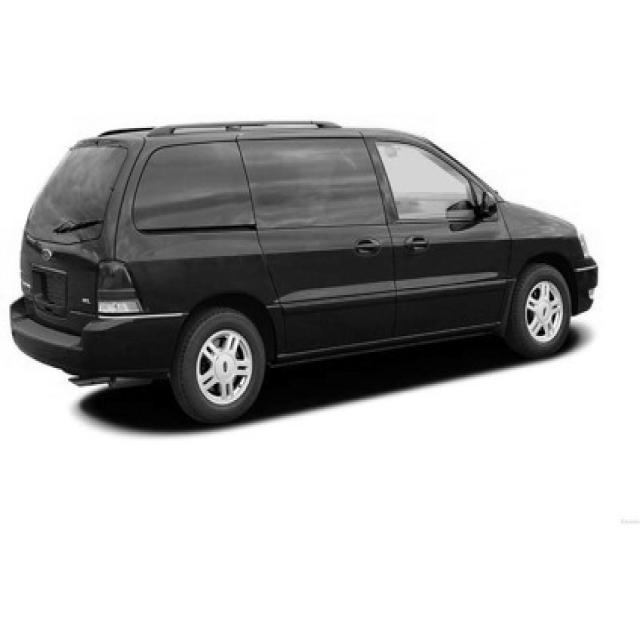car: (9, 119, 598, 425)
